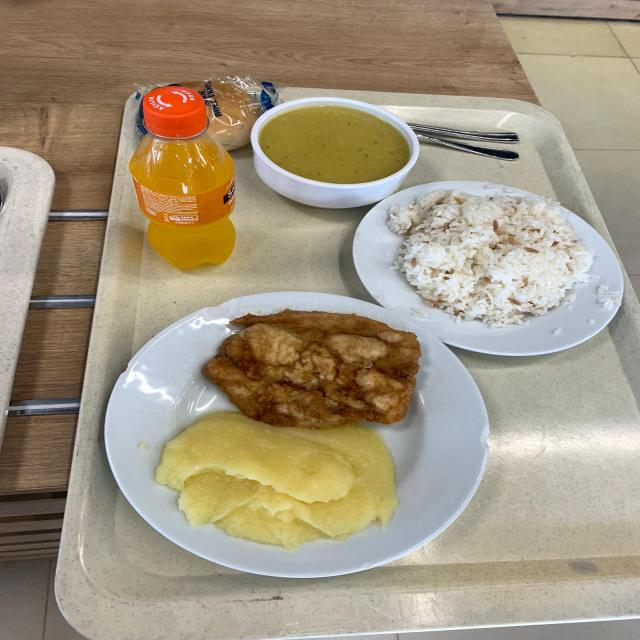ana_yemek: (128, 308, 444, 578), (407, 175, 612, 339)
corba: (265, 89, 416, 199)
